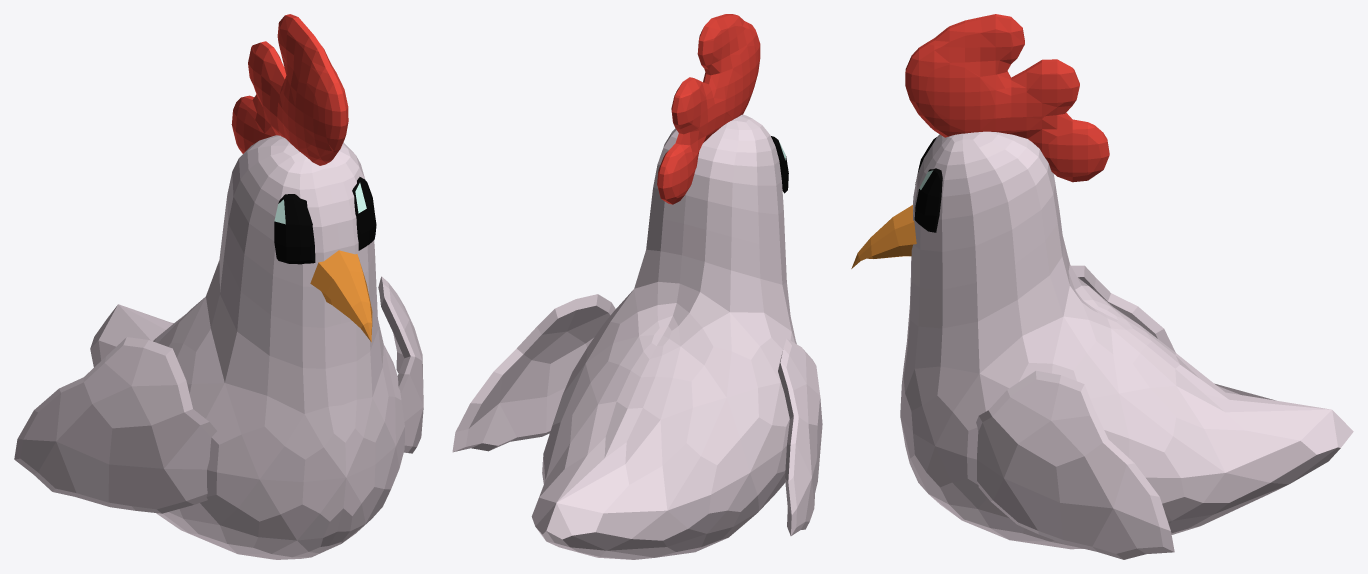
The model's file is chicken.gltf.
3 renders of one model, left to right at view 1: azimuth 30°, elevation 25°; view 2: azimuth 150°, elevation 25°; view 3: azimuth 270°, elevation 25°, orthographic. The views are drawn at different scales.
Parts seen in each view (by area): view 1: body.hp, body.hp.001, kam, body.hp.002, Plane, Cone; view 2: body.hp, body.hp.002, kam, body.hp.001; view 3: body.hp, body.hp.002, kam, Cone, body.hp.001, Plane.
Part boxes in pixels (bbox=[...]): body.hp: bbox=[90, 135, 404, 559]; body.hp.001: bbox=[14, 337, 216, 513]; kam: bbox=[231, 14, 348, 165]; body.hp.002: bbox=[378, 276, 423, 453]; Plane: bbox=[274, 177, 376, 264]; Cone: bbox=[310, 250, 372, 342]; body.hp: bbox=[531, 114, 796, 559]; body.hp.002: bbox=[452, 294, 615, 452]; kam: bbox=[657, 14, 760, 204]; body.hp.001: bbox=[778, 339, 822, 535]; body.hp: bbox=[900, 131, 1353, 549]; body.hp.002: bbox=[976, 370, 1174, 559]; kam: bbox=[905, 14, 1109, 182]; Cone: bbox=[851, 205, 916, 268]; body.hp.001: bbox=[1071, 265, 1175, 352]; Plane: bbox=[914, 137, 942, 232].
Bounding box in the file's own units: 9.69 × 13.25 × 11.56.
